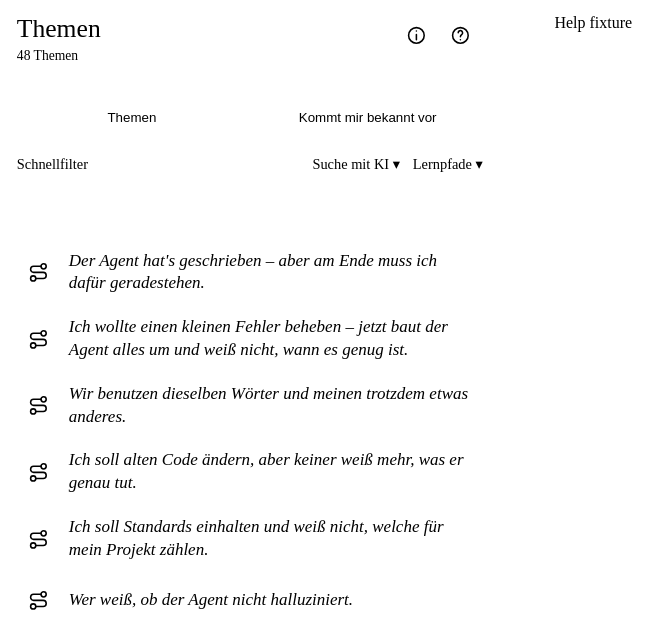
TopicBrowser › keeps switching usable with blocked storage and clears the notice after a successful retry
Click the button "Themen": (132, 118) [17,96,247,140]
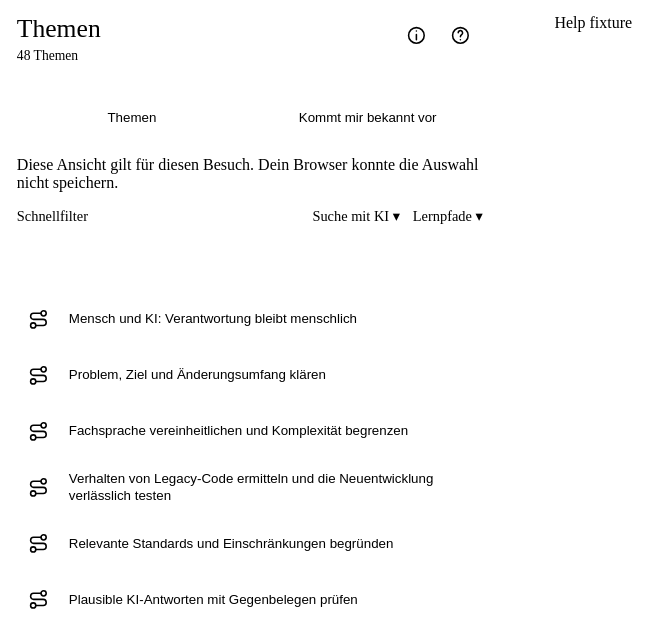
Check: the message shows "Auswahl nicht speichern", box [17,156,478,191]
Click the button "Kommt mir bekannt vor": (368, 118) [253,96,483,140]
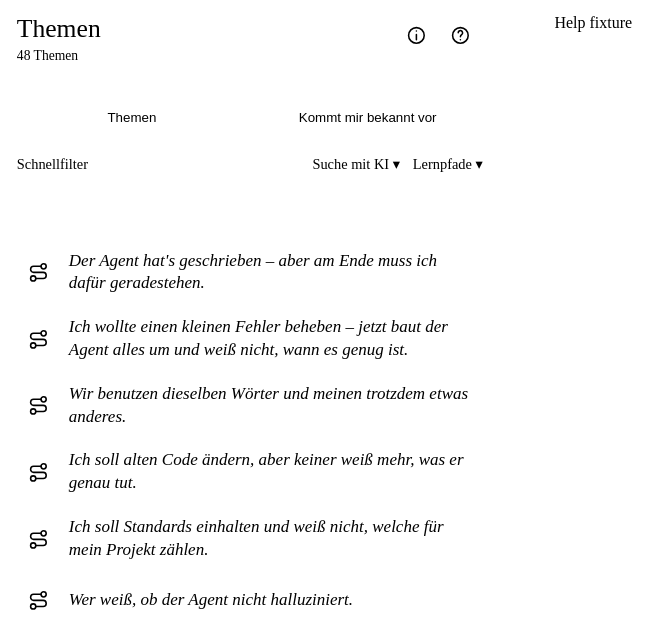
Check: the message is gone
